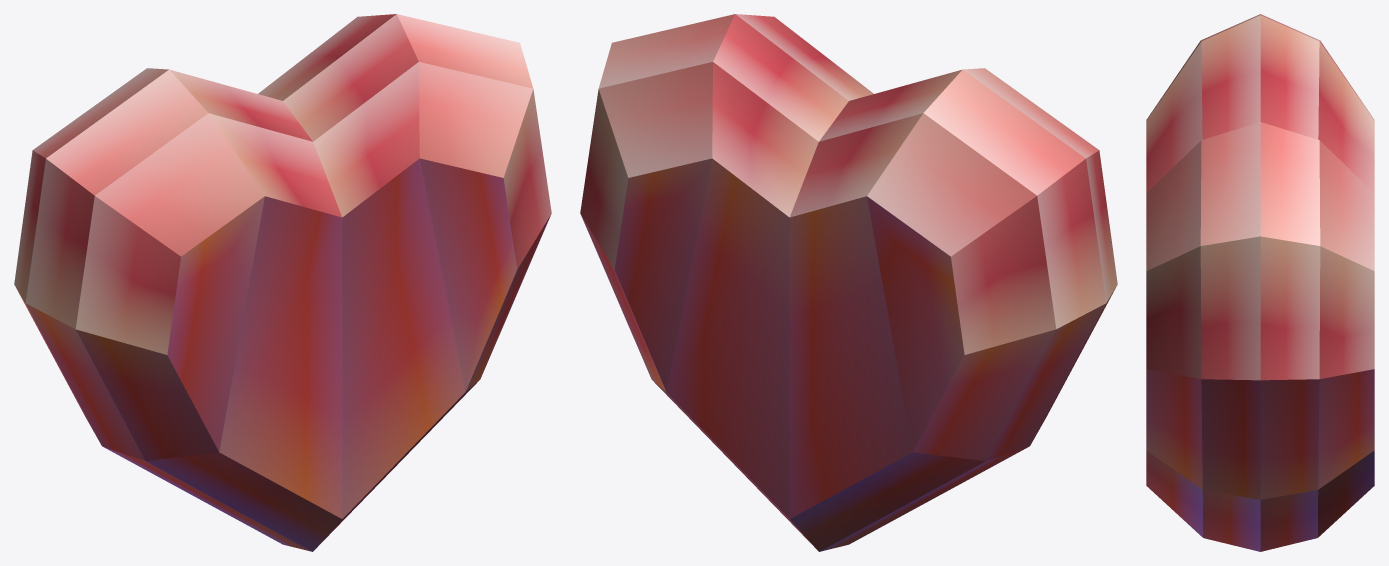
File: heart.fbx
3 views of the same model, side by side, from view 1: azimuth 30°, elevation 25°; view 2: azimuth 150°, elevation 25°; view 3: azimuth 270°, elevation 25° (orthographic). The views are drawn at different scales.
Parts seen in each view (by area): view 1: heart; view 2: heart; view 3: heart.
Boxes of the visible parts, x1,y1,x2,y2 form: heart: (14,14,551,551); heart: (580,14,1117,551); heart: (1146,14,1374,551).
Bounding box in the file's own units: 108 × 101 × 43.03.
